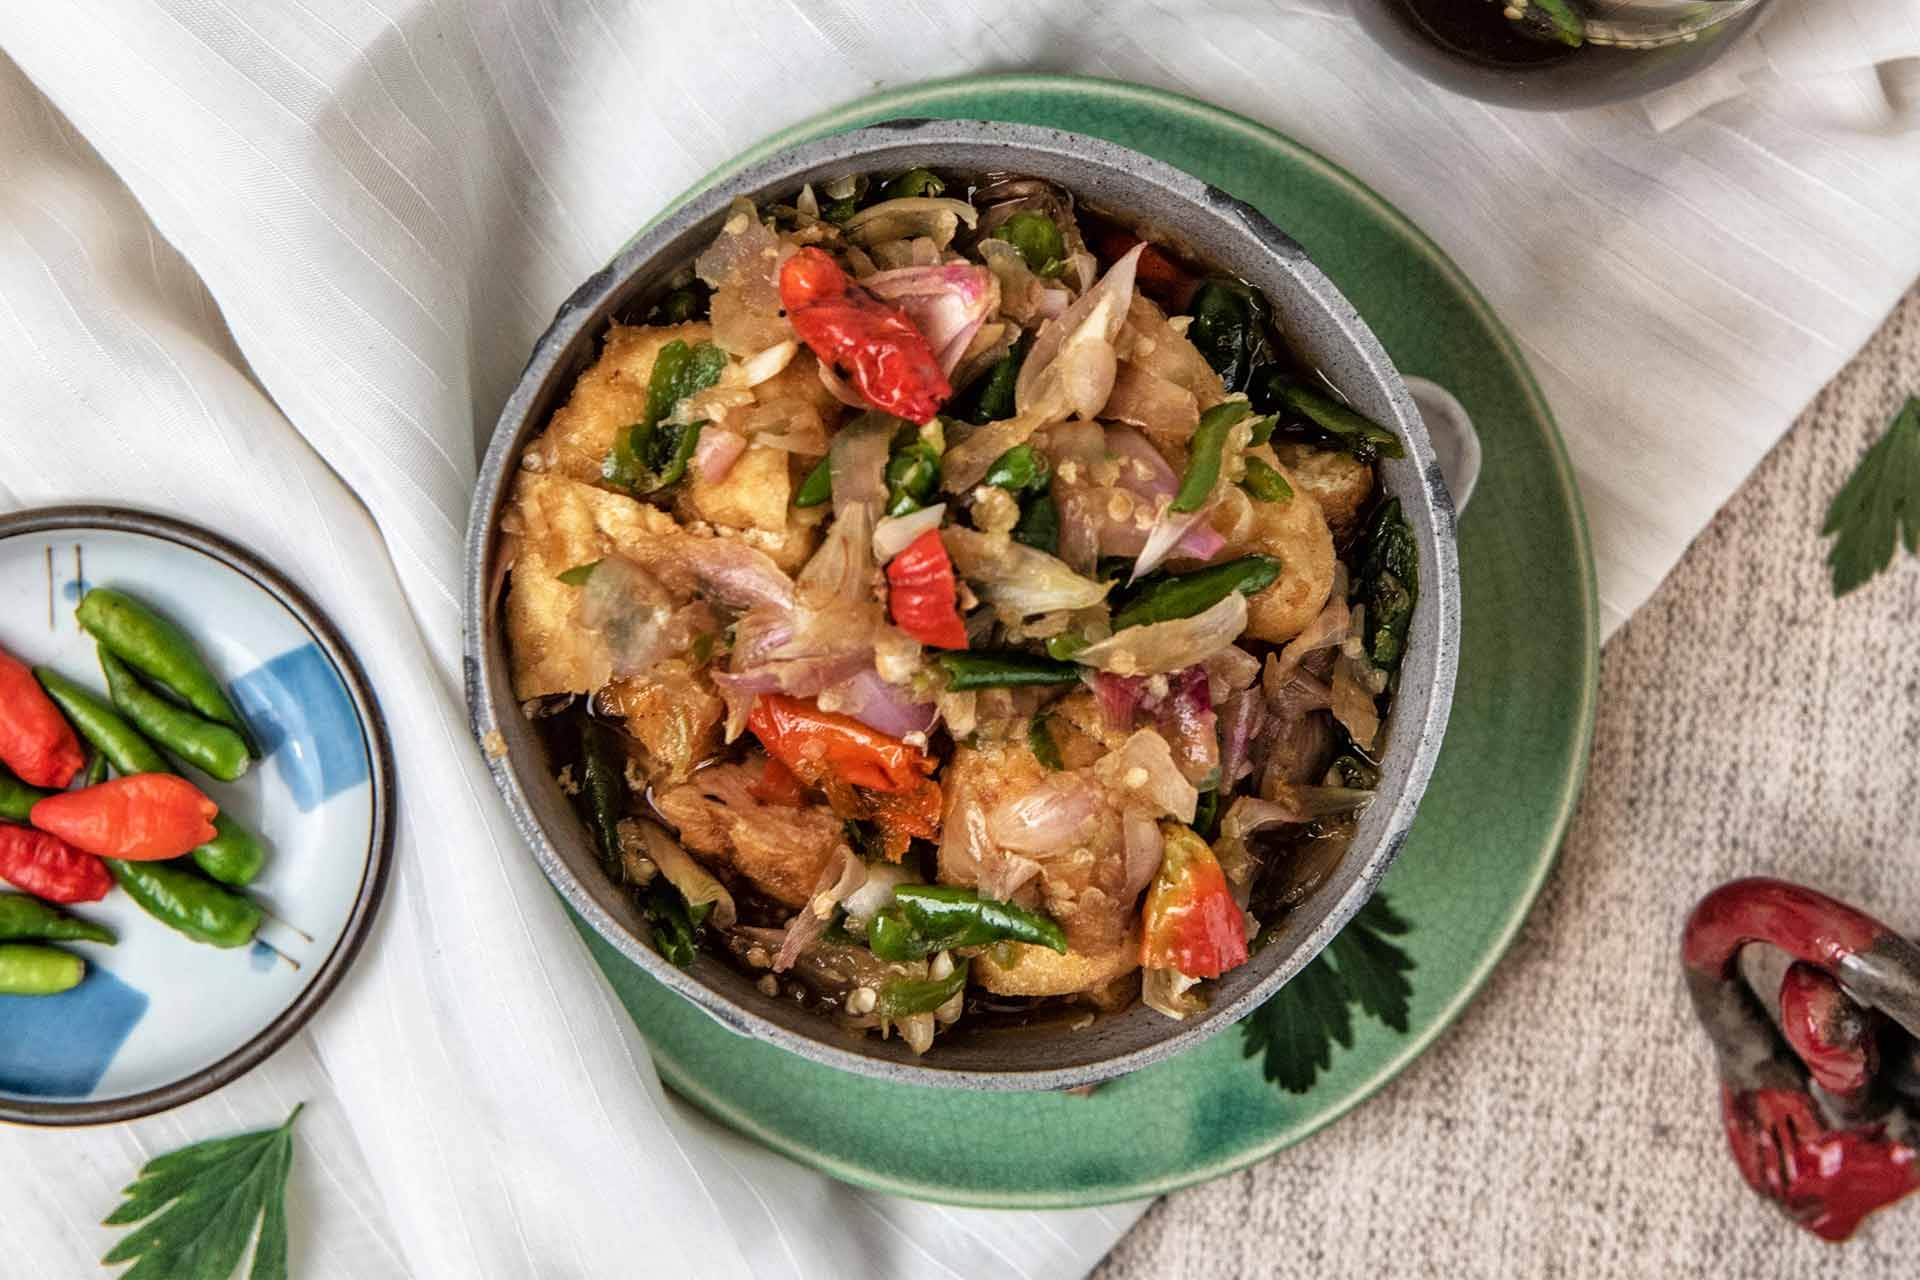tahu_gejrot: (509, 179, 1391, 1056)
